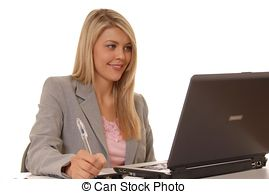face: (66, 1, 143, 97)
